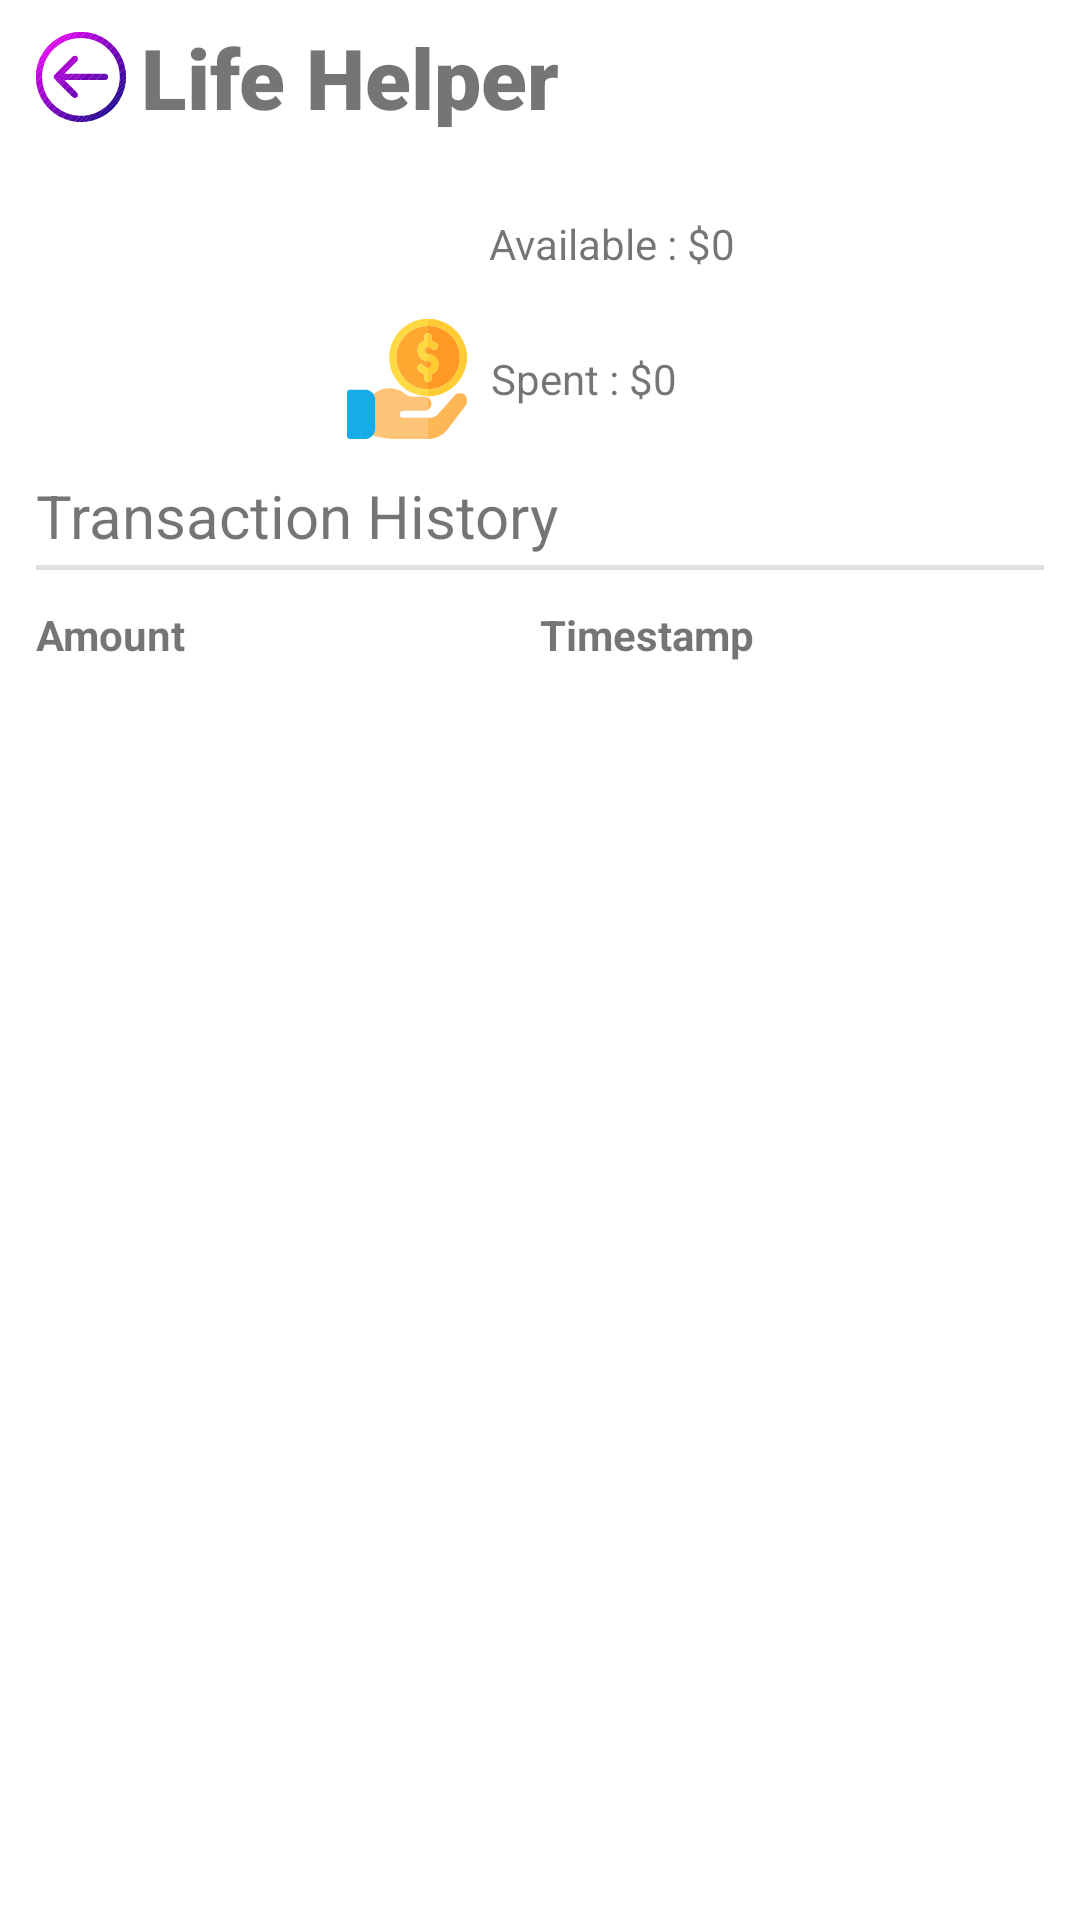

Icon bounding boxes for this 1080×1920 phone screenshot, format (x1, y1, x2, y2):
left arrow: (36, 32, 126, 122)
money: (347, 319, 467, 439)
